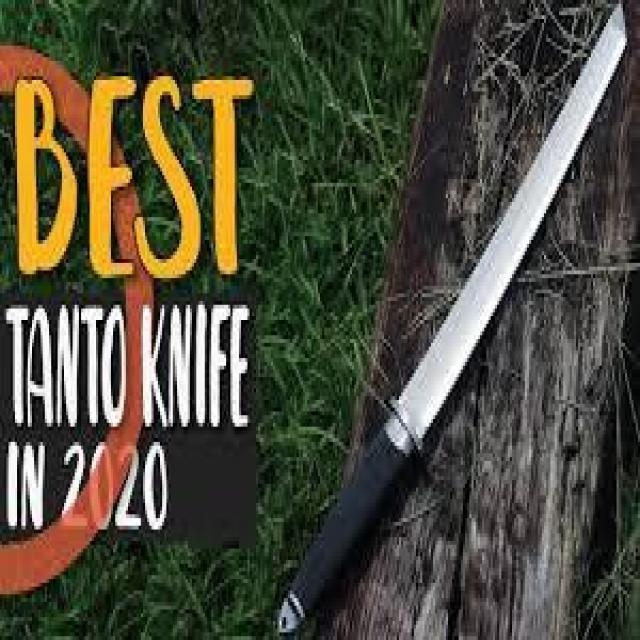Knife: (282, 0, 630, 630)
